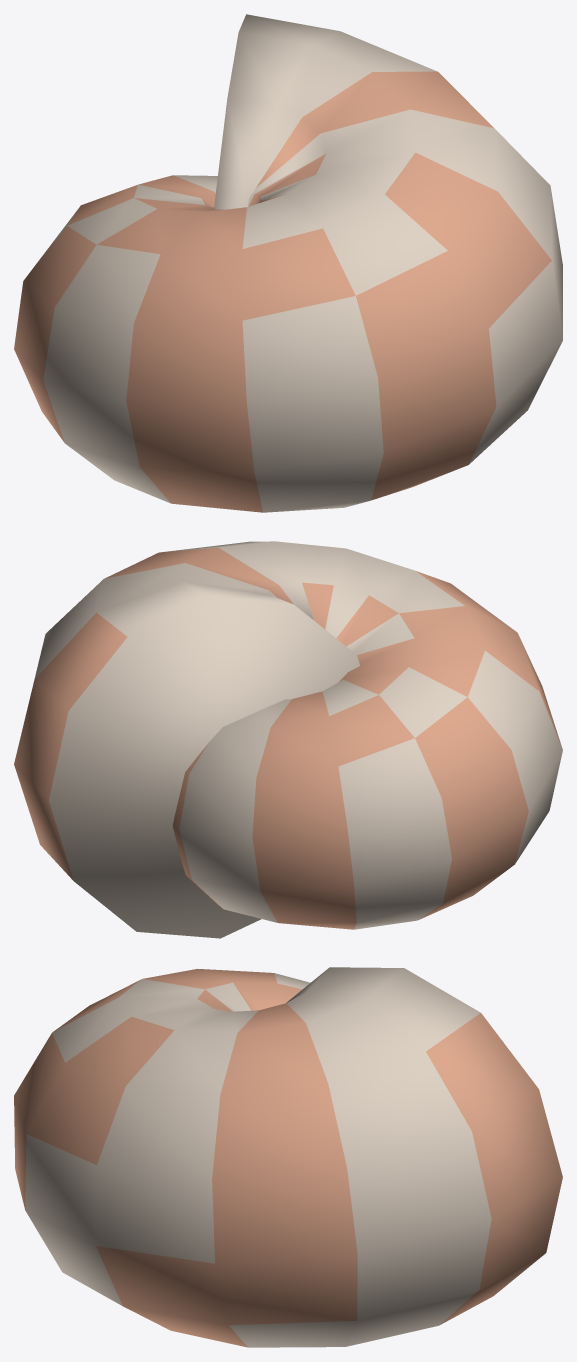
File: shell.glb
The picture shows the model from 3 angles, top to bottom: view 1: azimuth 30°, elevation 25°; view 2: azimuth 150°, elevation 25°; view 3: azimuth 270°, elevation 25°; orthographic projection. The views are drawn at different scales.
Visible parts, largest first — view 1: Shell; view 2: Shell; view 3: Shell.
Boxes of the visible parts, x1=… form: Shell: x1=14, y1=14, x2=562, y2=512; Shell: x1=14, y1=541, x2=562, y2=938; Shell: x1=14, y1=967, x2=562, y2=1347.
Bounding box in the file's own units: 1.23 × 0.8581 × 1.27.
